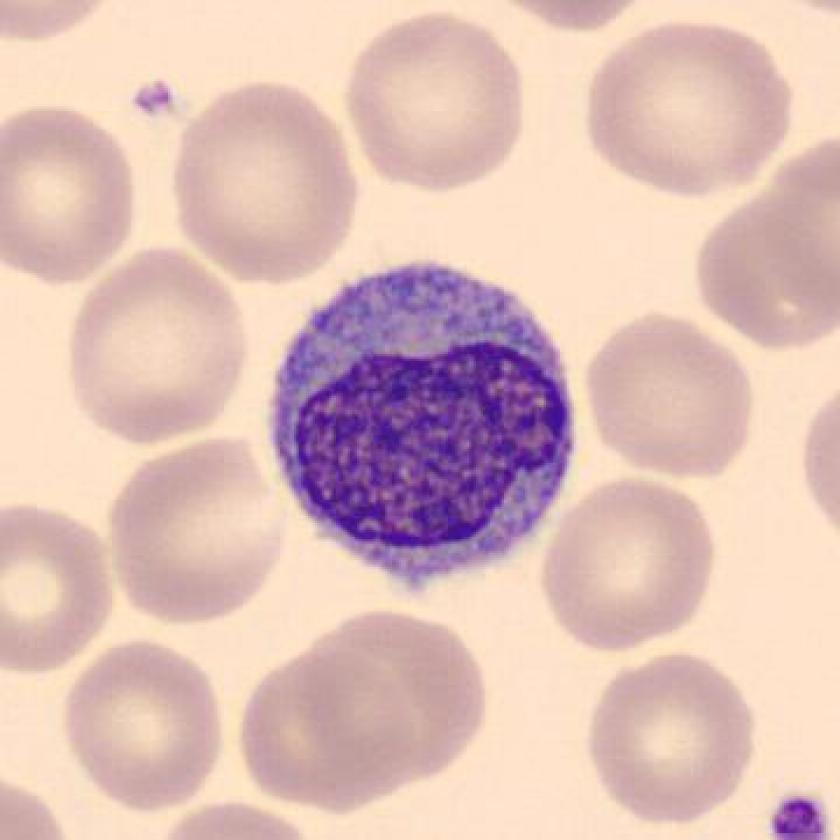monocyte: (251, 235, 598, 617)
